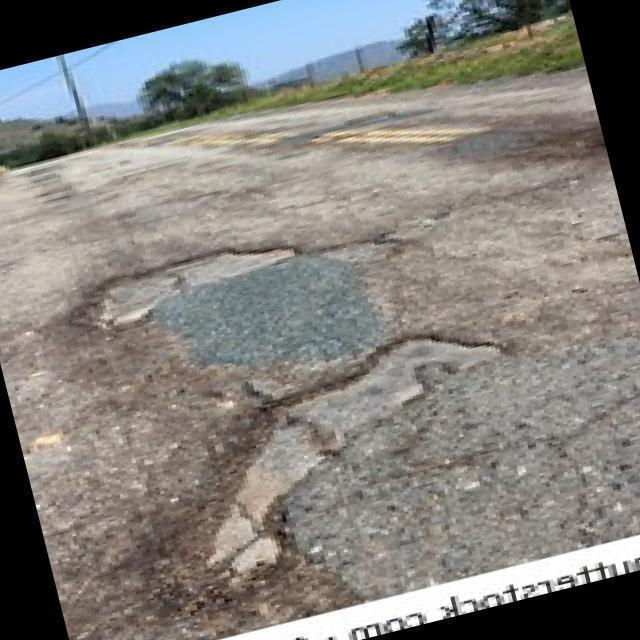pothole: (107, 311, 551, 616), (72, 228, 308, 340), (314, 227, 407, 277)
